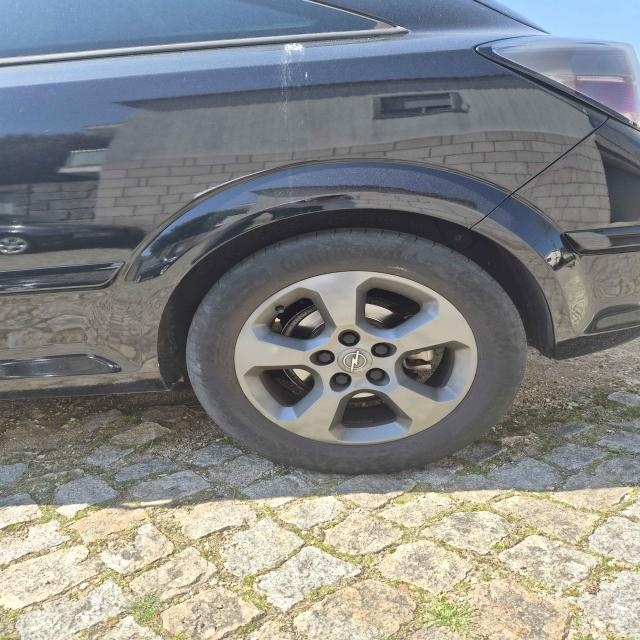jante: (235, 270, 478, 446)
parafuso: (374, 343, 394, 358), (314, 350, 334, 365), (339, 331, 358, 346), (367, 369, 386, 384), (334, 374, 351, 389)
roda: (185, 226, 528, 477)
